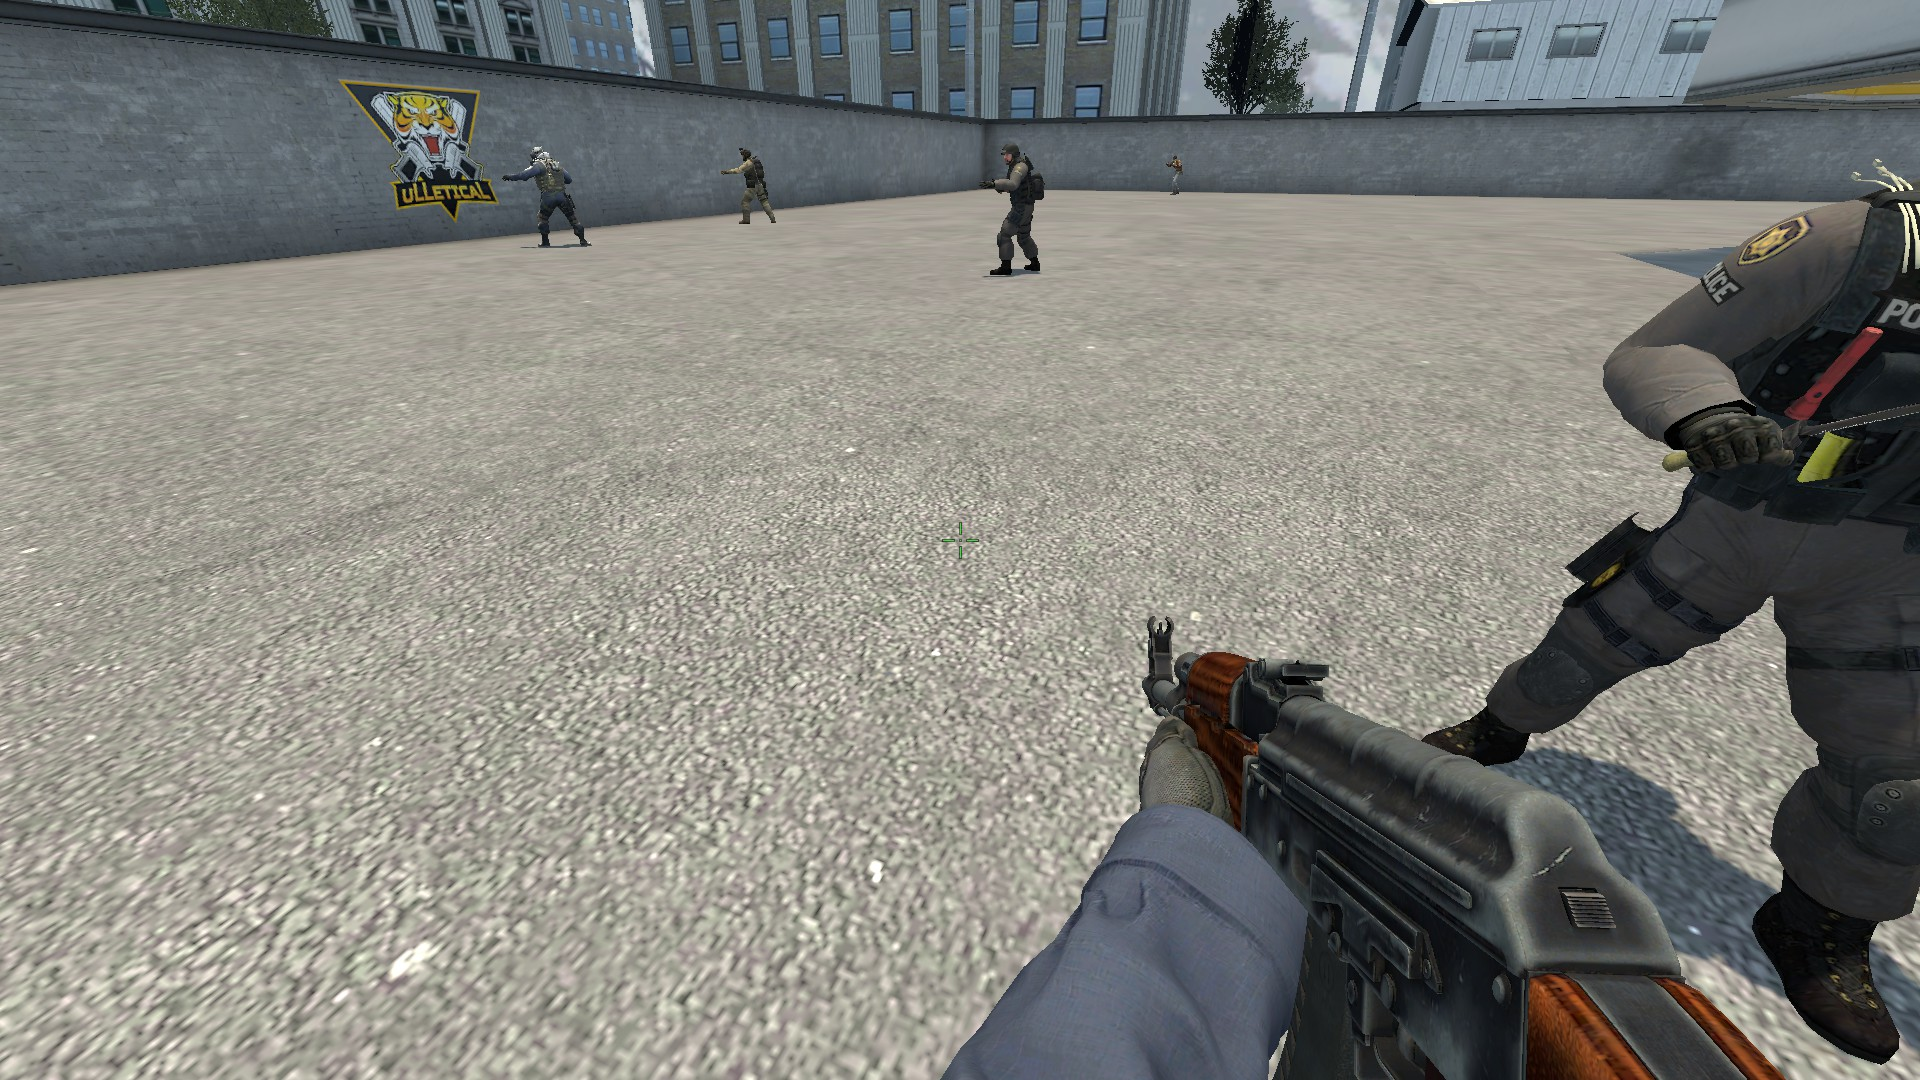ct: (1411, 156, 1920, 1063), (978, 141, 1048, 278)
ct head: (996, 138, 1029, 171)
